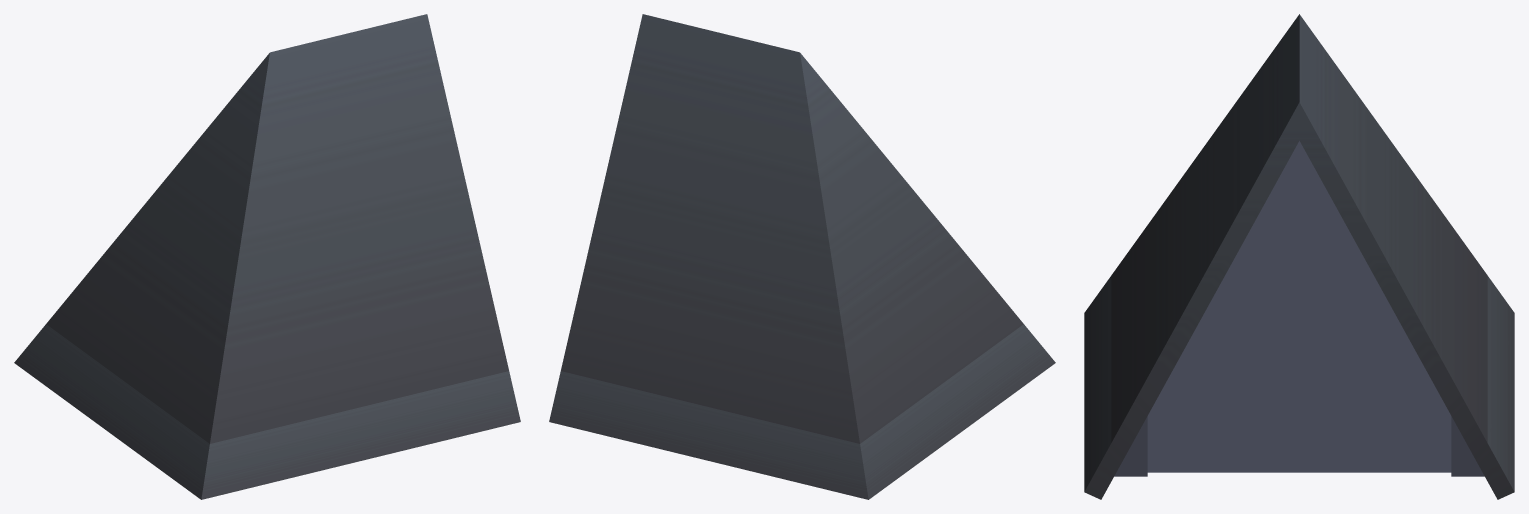
The model's file is roof-high-gable-end.glb.
3 views of the same model, side by side, from view 1: azimuth 30°, elevation 25°; view 2: azimuth 150°, elevation 25°; view 3: azimuth 270°, elevation 25° (orthographic). The views are drawn at different scales.
Visible parts, largest first — view 1: roof-high-gable-end; view 2: roof-high-gable-end; view 3: roof-high-gable-end.
Part boxes in pixels (<box>): roof-high-gable-end: <box>14,14,520,499</box>; roof-high-gable-end: <box>549,14,1055,499</box>; roof-high-gable-end: <box>1084,14,1514,499</box>.
Bounding box in the file's own units: 1.12 × 1.16 × 1.13.
Materials: 1 (1 with a texture image).
